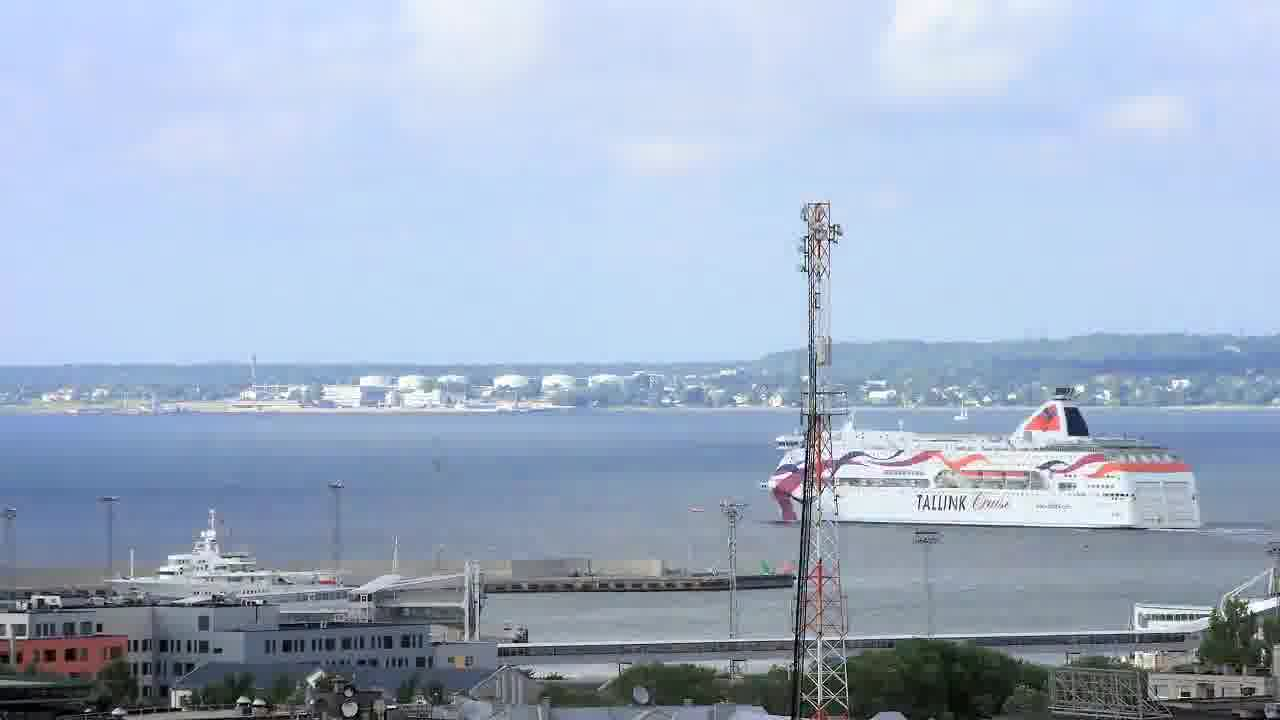type-3: (756, 394, 1207, 555), (96, 508, 381, 605)
